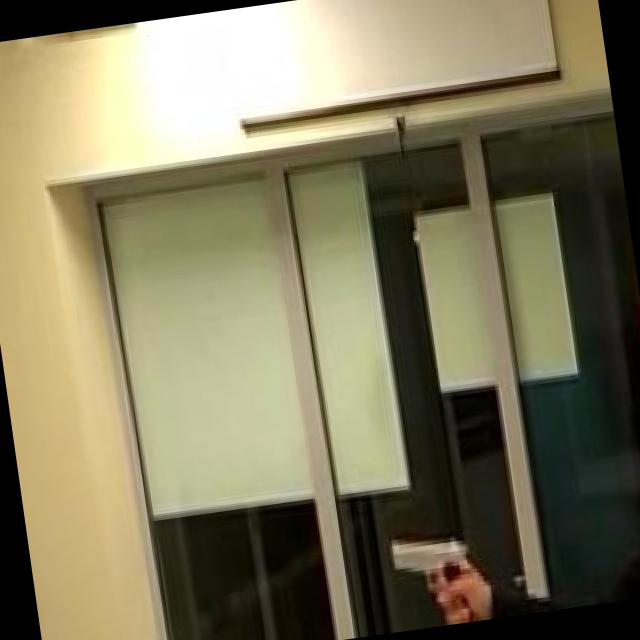Guns: (374, 513, 483, 614)
